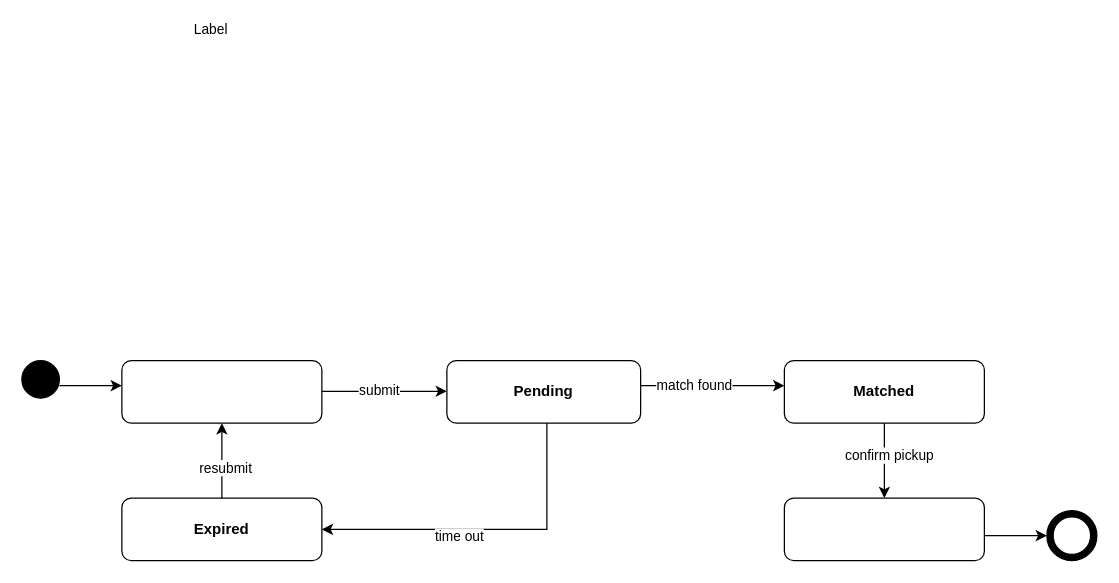
This 1119x583 diagram has some shape labels left out. The box of each missing label's shape, as (x1, y1, x2, y2) in pixels:
Claimed: (783, 497, 984, 561)
Reported: (121, 359, 322, 423)
